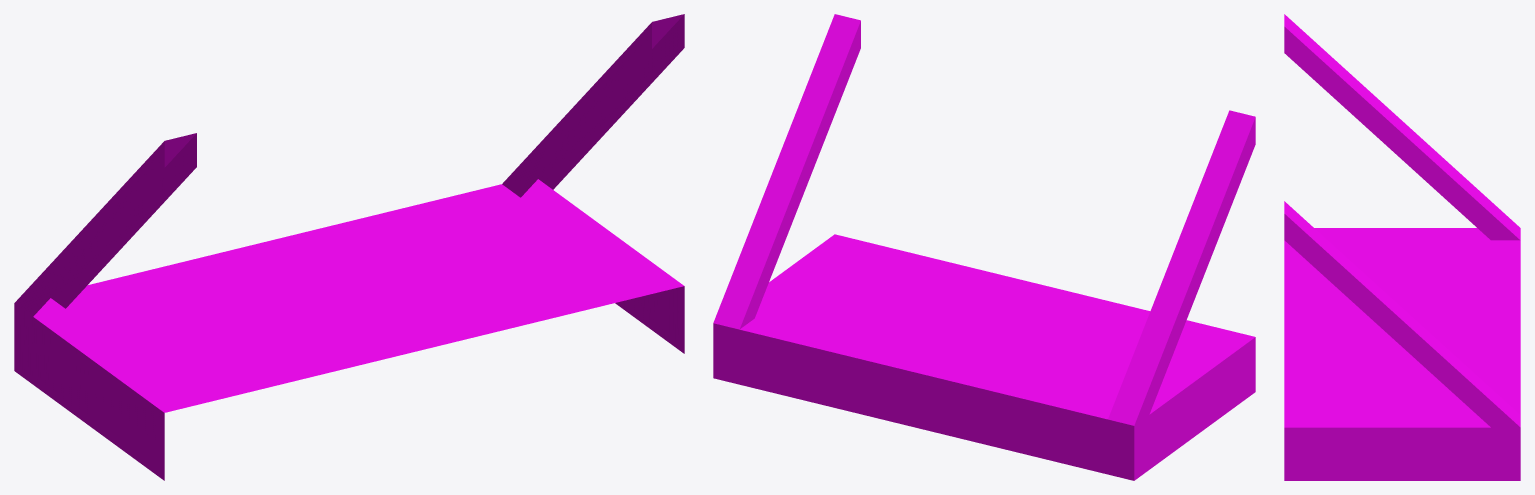
The model's file is wallbench.obj.
3 views of the same model, side by side, from view 1: azimuth 30°, elevation 25°; view 2: azimuth 150°, elevation 25°; view 3: azimuth 270°, elevation 25° (orthographic). The views are drawn at different scales.
Visible parts, largest first — view 1: wallbench_back; view 2: wallbench_back; view 3: wallbench_back.
Part boxes in pixels (x1,y1,x2,y2): wallbench_back: (14, 14, 684, 480); wallbench_back: (713, 14, 1255, 480); wallbench_back: (1284, 14, 1520, 480).
Size of the model in its own units: 1.28 by 0.8 by 0.64.
